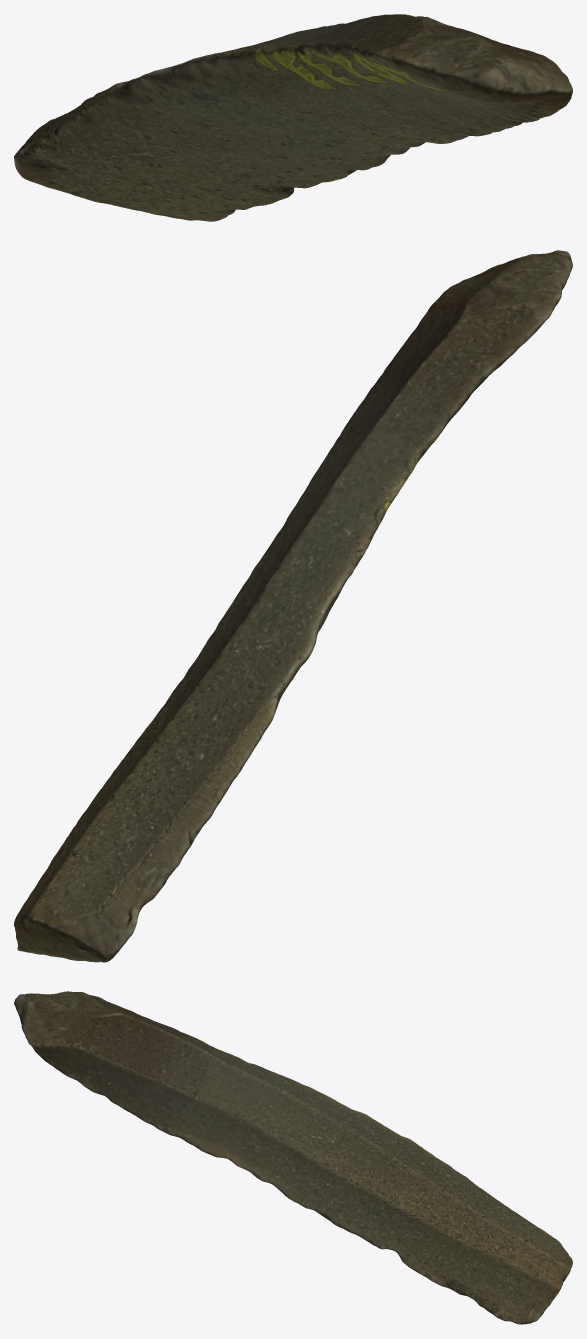
3 views of the same model, one above another, from view 1: azimuth 30°, elevation 25°; view 2: azimuth 150°, elevation 25°; view 3: azimuth 270°, elevation 25° (orthographic). The views are drawn at different scales.
Visible parts, largest first — view 1: Node; view 2: Node; view 3: Node.
Part boxes in pixels (x1,y1,x2,y2): Node: (14,14,572,221); Node: (14,250,572,962); Node: (14,991,572,1324).
Size of the model in its own units: 0.0122 by 0.0278 by 0.0493.
1 material, 1 textured.
